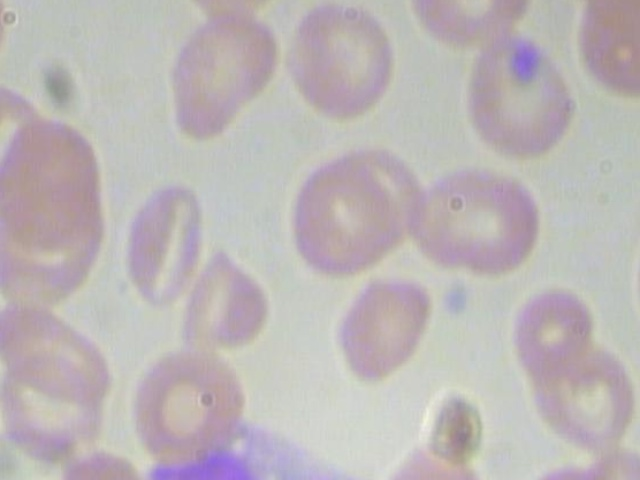RBC: (394, 151, 563, 289), (153, 0, 279, 146), (453, 28, 581, 169), (126, 350, 261, 478), (283, 149, 409, 276), (278, 0, 402, 129), (320, 268, 444, 385), (111, 178, 211, 307), (507, 280, 598, 378), (382, 449, 495, 480), (510, 459, 626, 480)
WBC: (131, 407, 392, 480)
